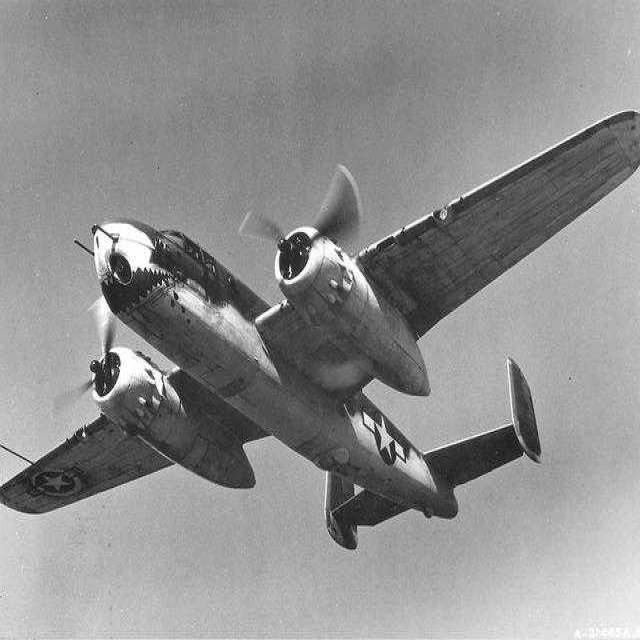Aircraft: (5, 116, 640, 551)
